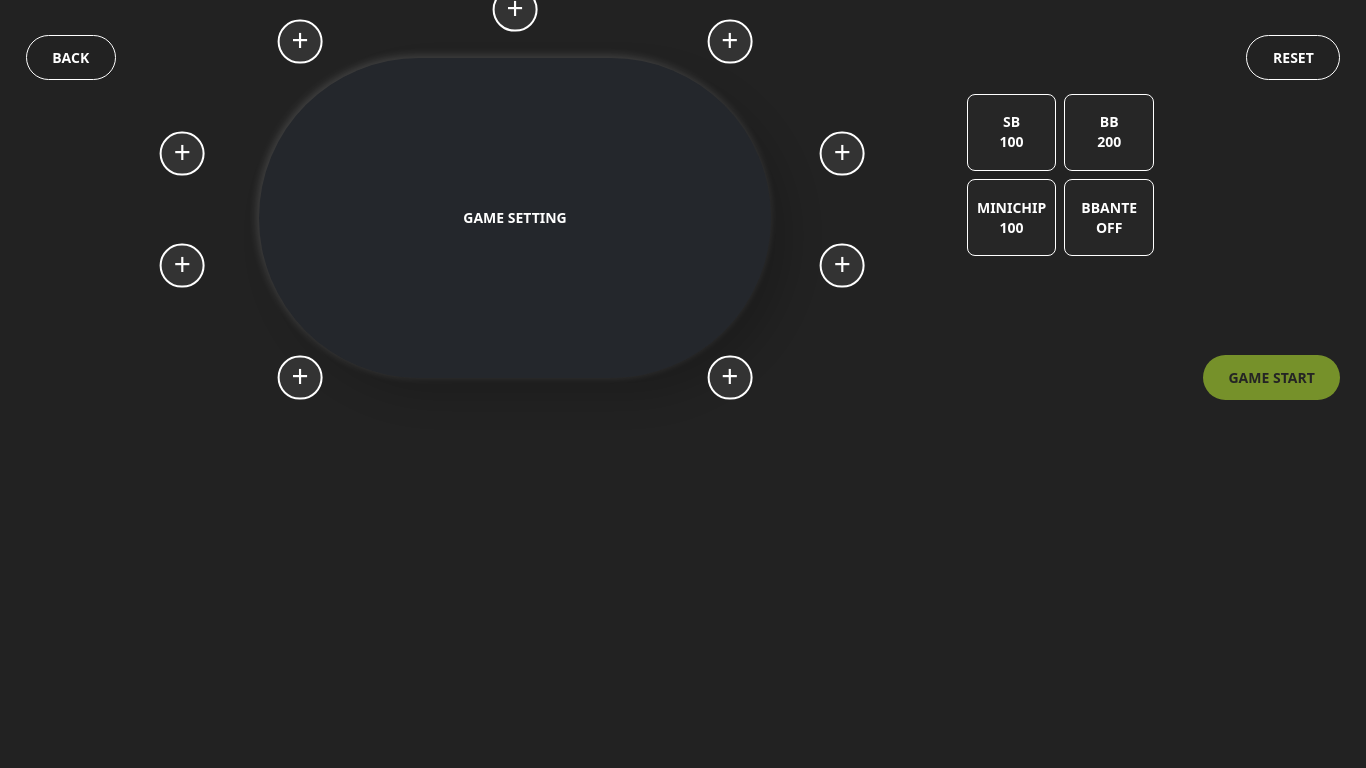
Test: GameSetting › GAME START ボタンの enable/disable › 2人以上着席すると GAME START が enabled になる
Seat1 に追加
Click the 8th button "+": x=300, y=378 [278,355,322,400]
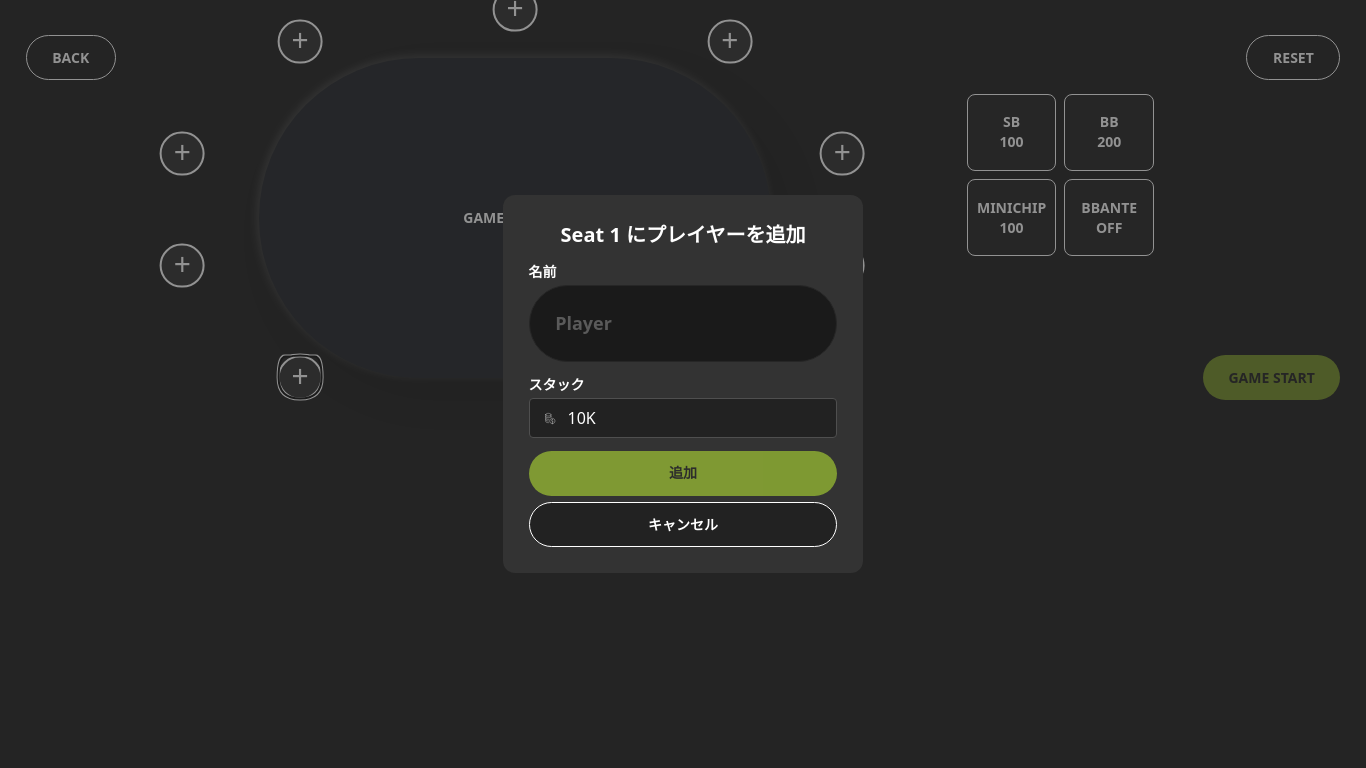
In the field with placeholder "Player": x=683, y=323 [529,285,837,362], type "Alice"
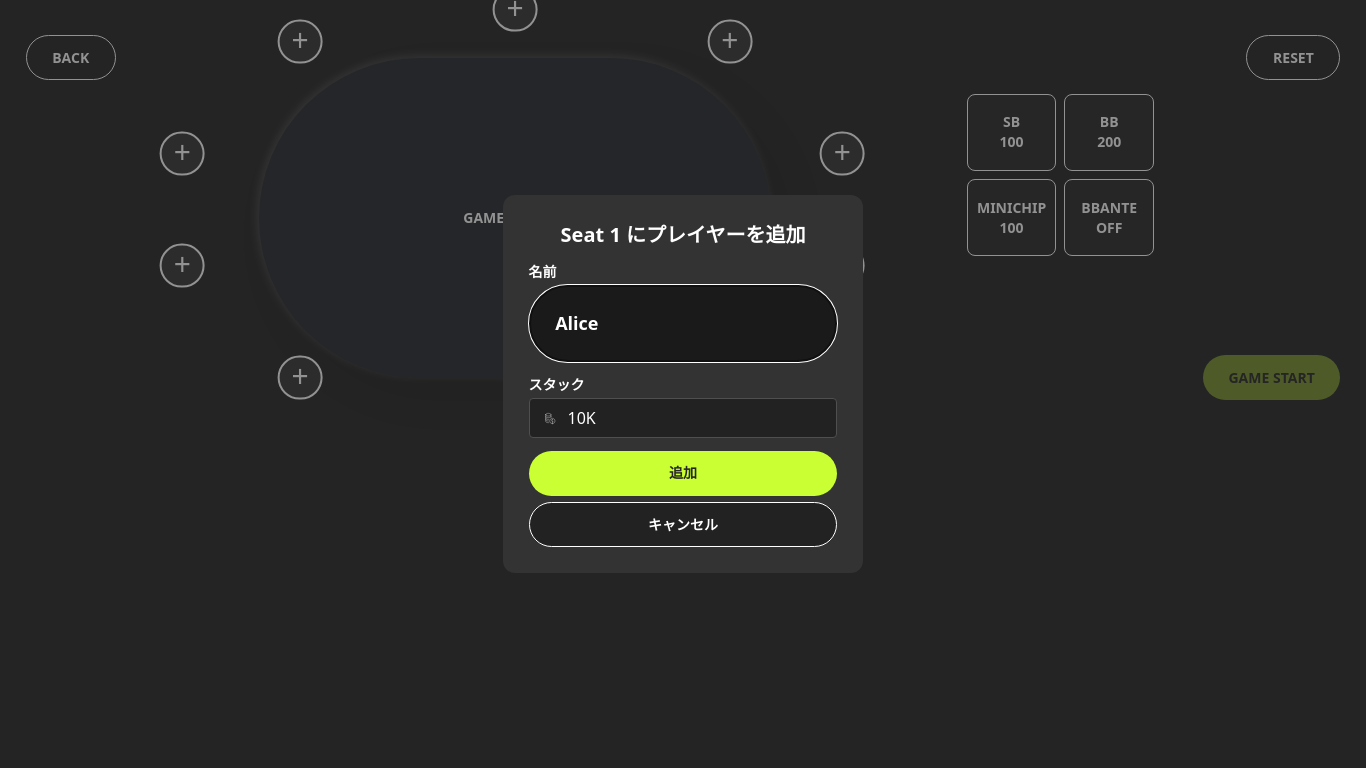
Click the button "追加": x=683, y=473 [529,451,837,496]
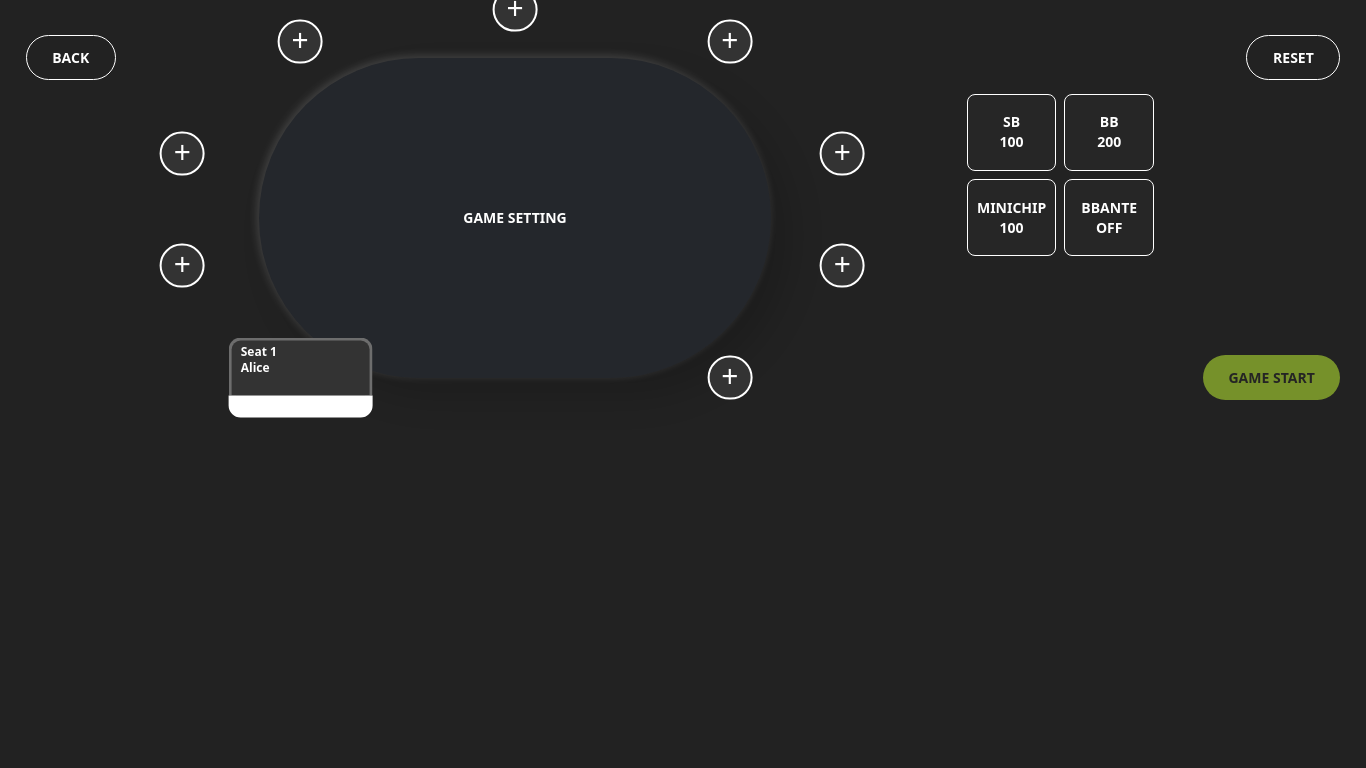
Seat2 に追加
Click the 4th button "+": x=182, y=154 [160,131,205,176]
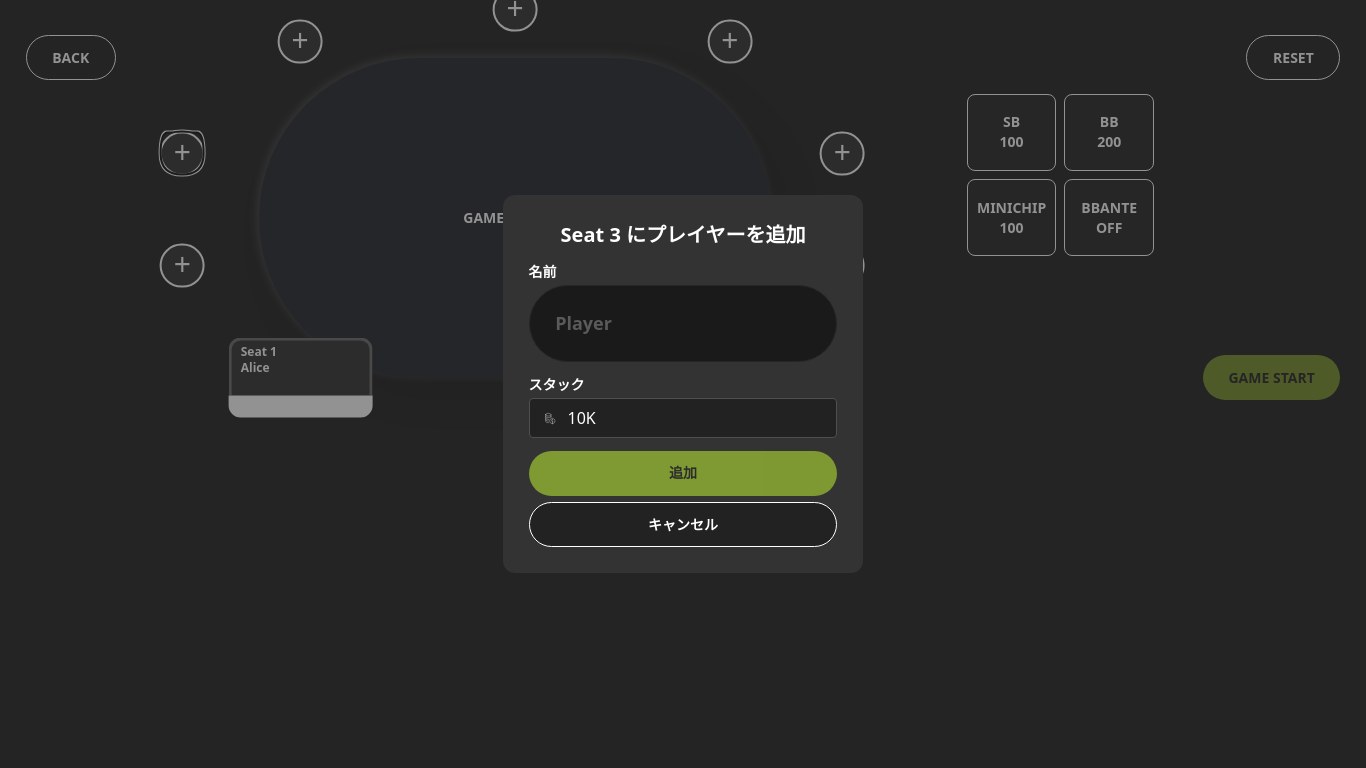
In the field with placeholder "Player": x=683, y=323 [529,285,837,362], type "Bob"
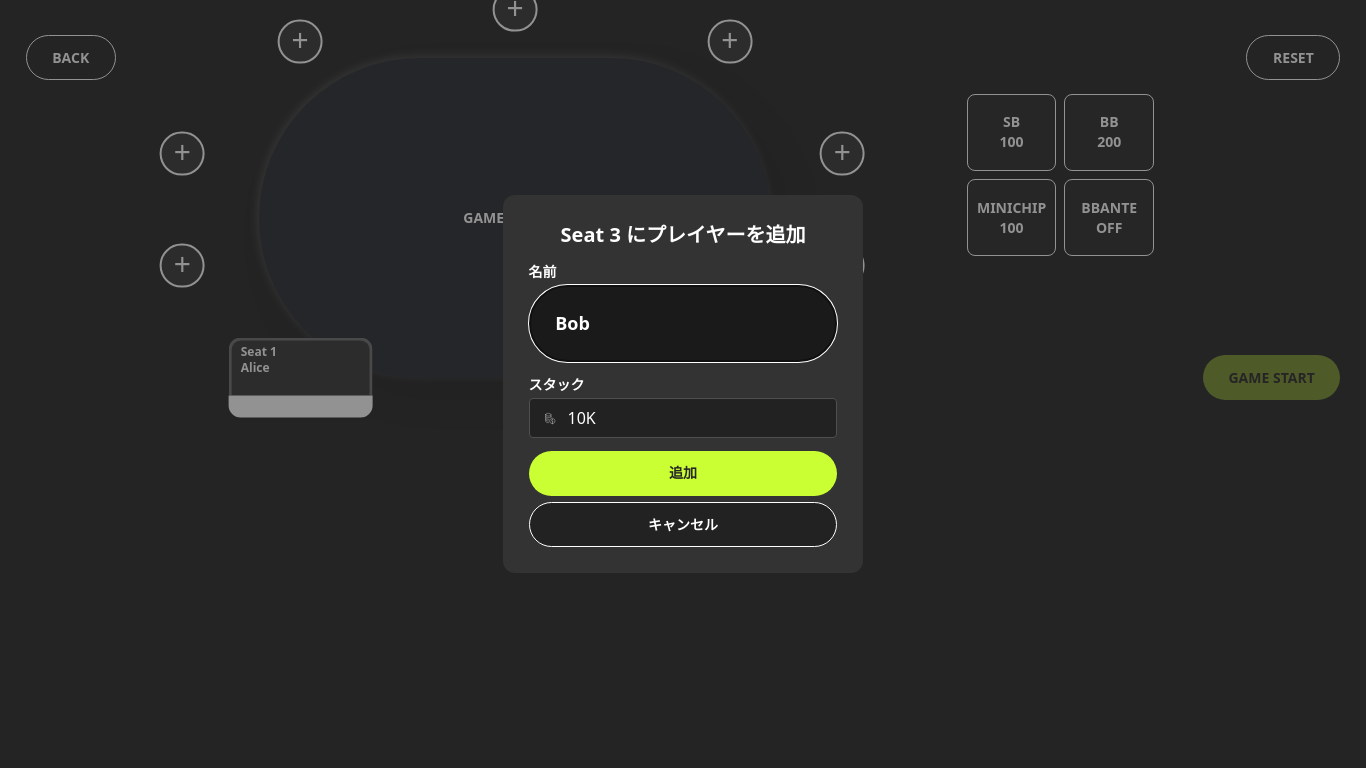
Click the button "追加": x=683, y=473 [529,451,837,496]
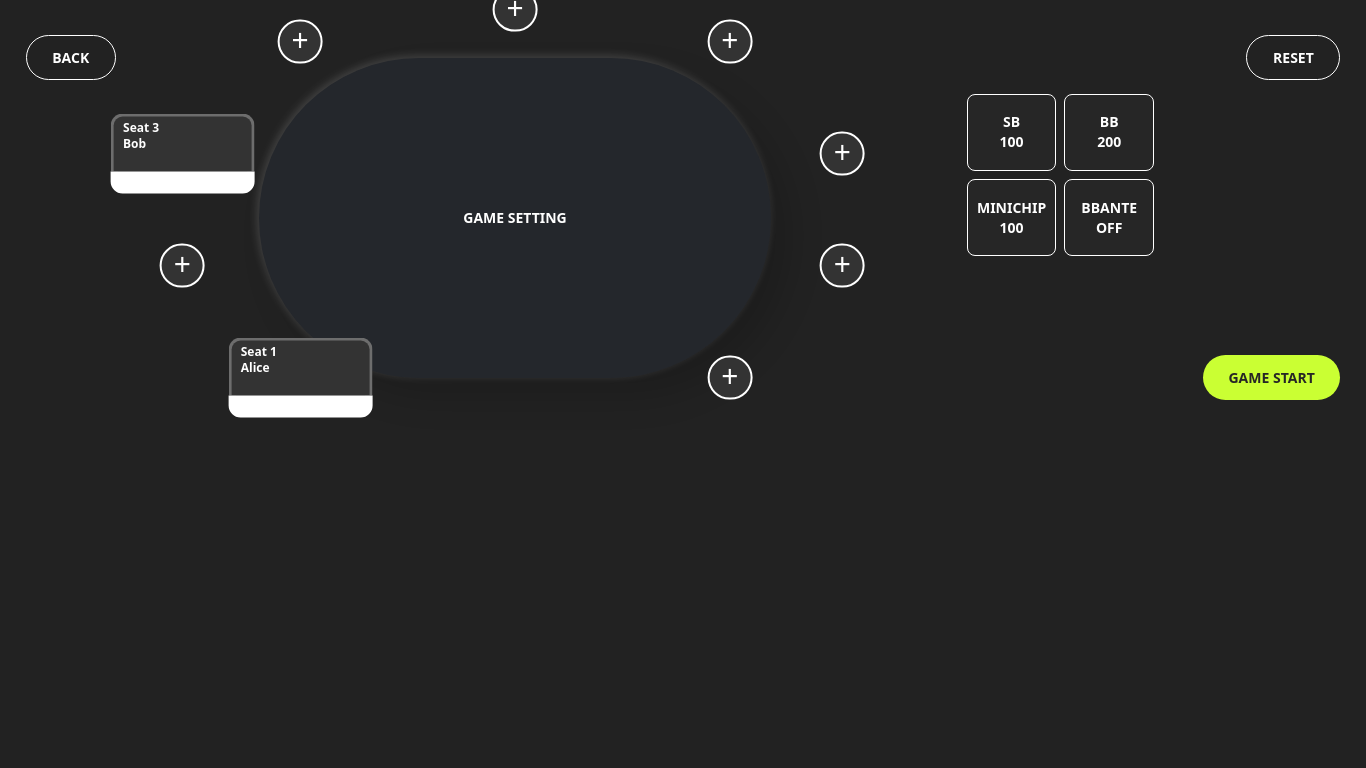
Result: the button "GAME START" is enabled at [1203,355,1340,400]
